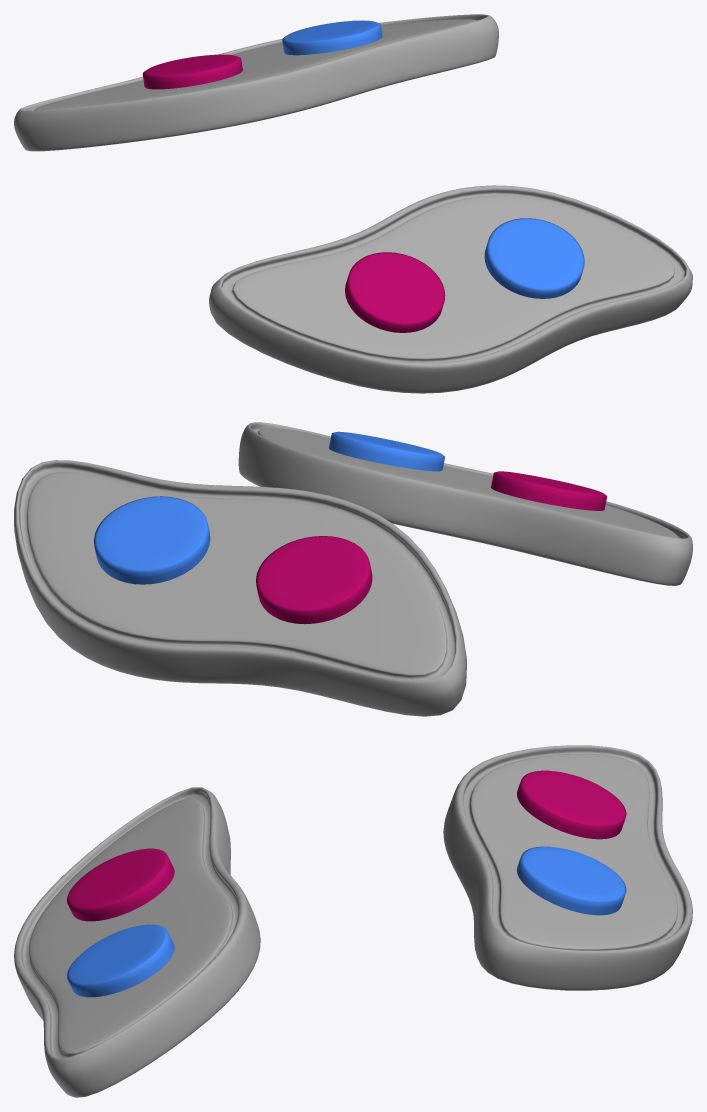
Rendered from podium.fbx.
The picture shows the model from 3 angles, top to bottom: view 1: azimuth 30°, elevation 25°; view 2: azimuth 150°, elevation 25°; view 3: azimuth 270°, elevation 25°; orthographic projection. The views are drawn at different scales.
Parts seen in each view (by area): view 1: polySurface138 (×2), aiButton (×2), humanButton (×2), polySurface137; view 2: polySurface138 (×2), humanButton (×2), aiButton (×2), polySurface137; view 3: polySurface138 (×2), humanButton (×2), aiButton (×2), polySurface137 (×2).
Boxes of the visible parts, bbox=[...] form: polySurface138 (×2): bbox=[14, 14, 692, 393]; aiButton (×2): bbox=[142, 54, 445, 332]; humanButton (×2): bbox=[282, 20, 584, 298]; polySurface137: bbox=[222, 193, 684, 362]; polySurface138 (×2): bbox=[14, 422, 692, 716]; humanButton (×2): bbox=[94, 431, 444, 584]; aiButton (×2): bbox=[256, 471, 607, 624]; polySurface137: bbox=[20, 467, 455, 680]; polySurface138 (×2): bbox=[14, 745, 692, 1097]; humanButton (×2): bbox=[67, 846, 626, 997]; aiButton (×2): bbox=[67, 770, 626, 921]; polySurface137 (×2): bbox=[23, 752, 683, 1058].
Size of the model in its own units: 30.73 by 11.97 by 38.08.
